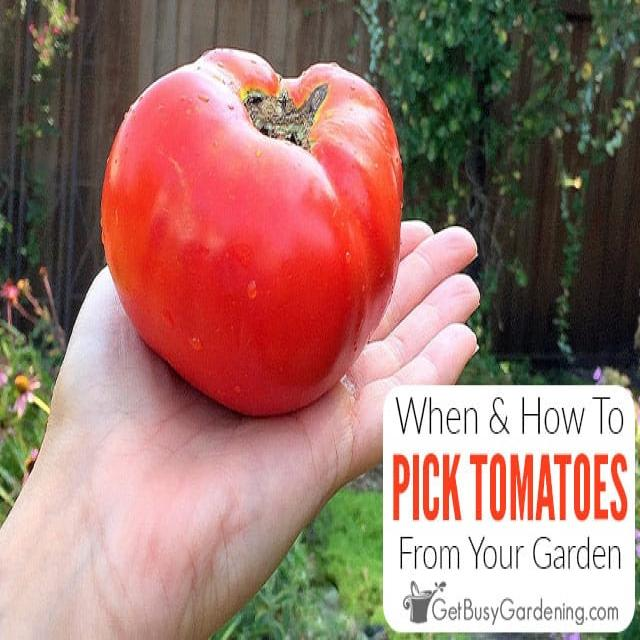tomatoes: (100, 45, 403, 418)
